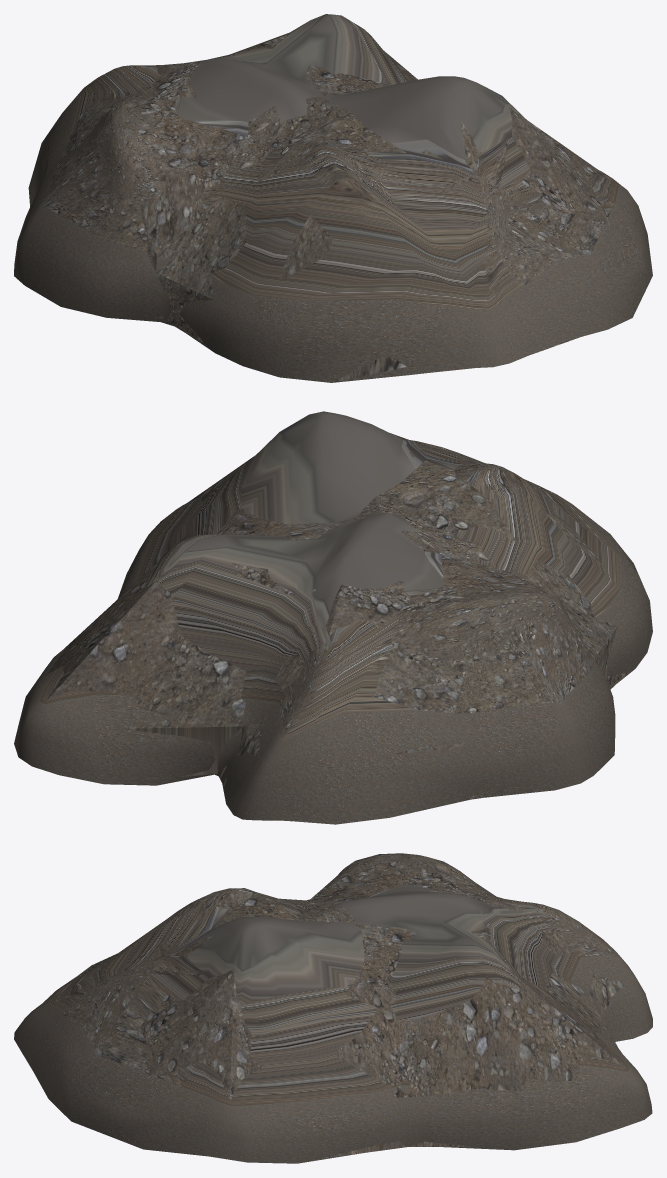
File: cave_wall_bumps_03.dae
The picture shows the model from 3 angles, top to bottom: view 1: azimuth 30°, elevation 25°; view 2: azimuth 150°, elevation 25°; view 3: azimuth 270°, elevation 25°; orthographic projection. The views are drawn at different scales.
Parts seen in each view (by area): view 1: 03, _collide_mesh_shape01; view 2: 03, _collide_mesh_shape01; view 3: 03, _collide_mesh_shape01.
Boxes of the visible parts, x1,y1,x2,y2 form: 03: (14, 14, 652, 382); _collide_mesh_shape01: (43, 32, 614, 382); 03: (14, 411, 652, 824); _collide_mesh_shape01: (45, 433, 628, 821); 03: (14, 853, 652, 1163); _collide_mesh_shape01: (140, 864, 627, 1159).
Bounding box in the file's own units: 1.98 × 0.7055 × 2.35.
Materials: 1 (1 with a texture image).
